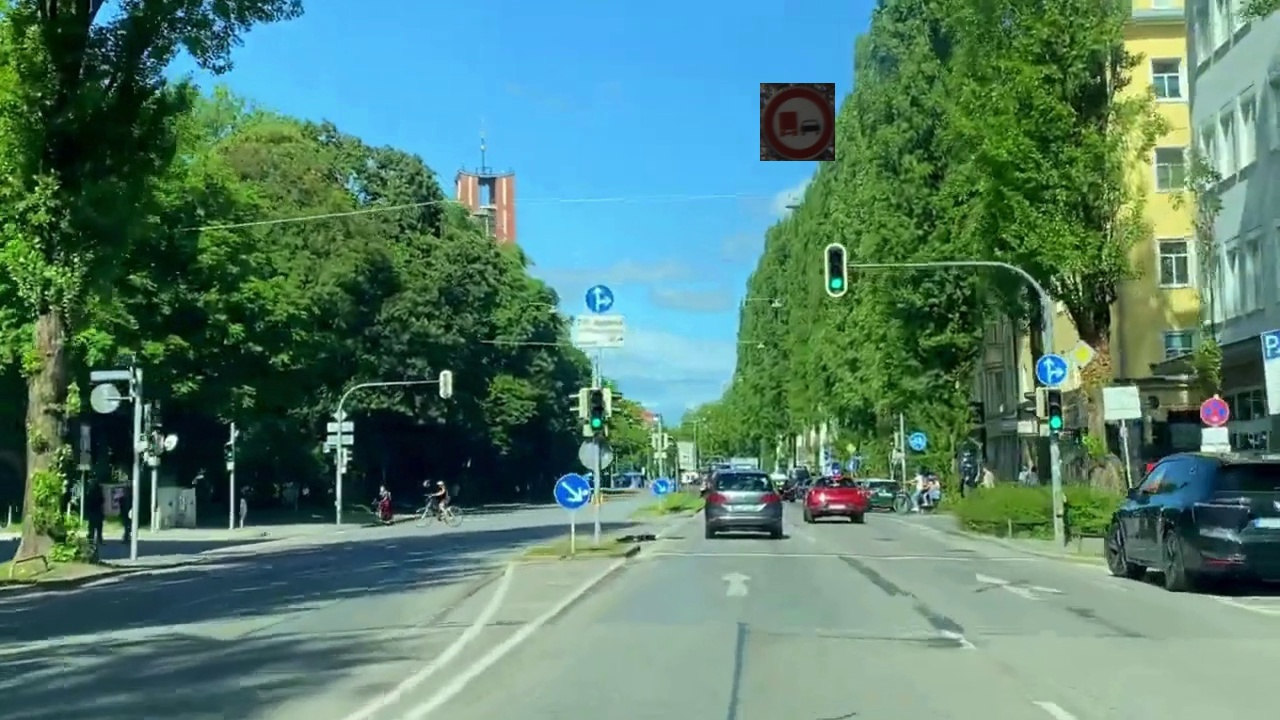No pass >3.5t: (760, 83, 835, 161)
